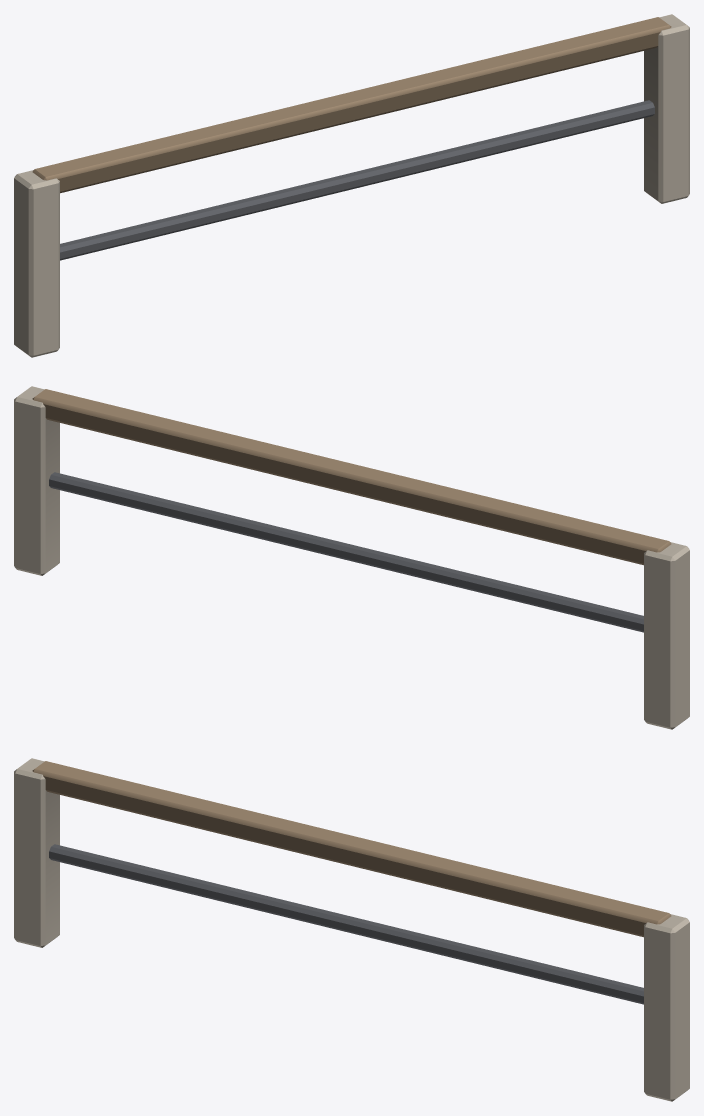
Rendered from rail_waterfront.glb.
The picture shows the model from 3 angles, top to bottom: view 1: azimuth 30°, elevation 25°; view 2: azimuth 150°, elevation 25°; view 3: azimuth 330°, elevation 25°; orthographic projection.
Bounding box in the file's own units: 4.2 × 1.07 × 0.2.
